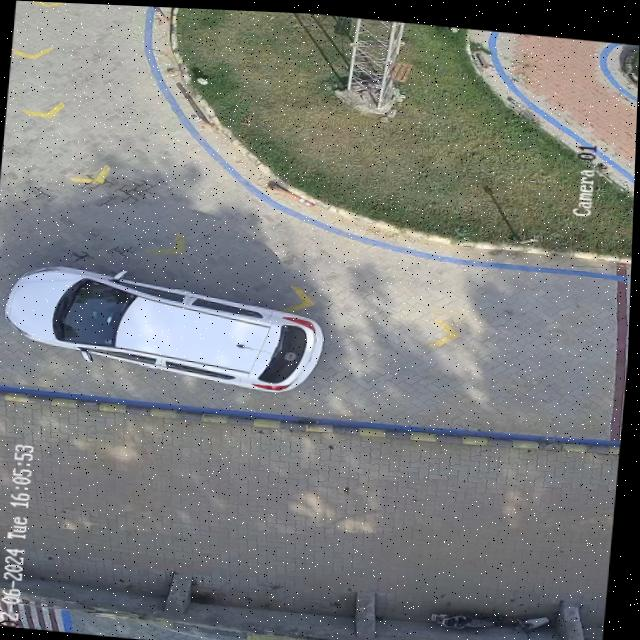car: (8, 264, 325, 388)
